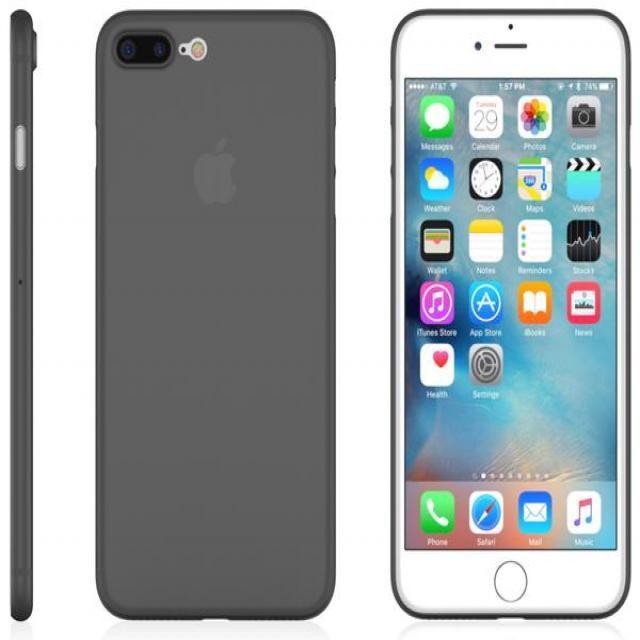phone: (90, 0, 341, 626), (385, 5, 632, 623)
